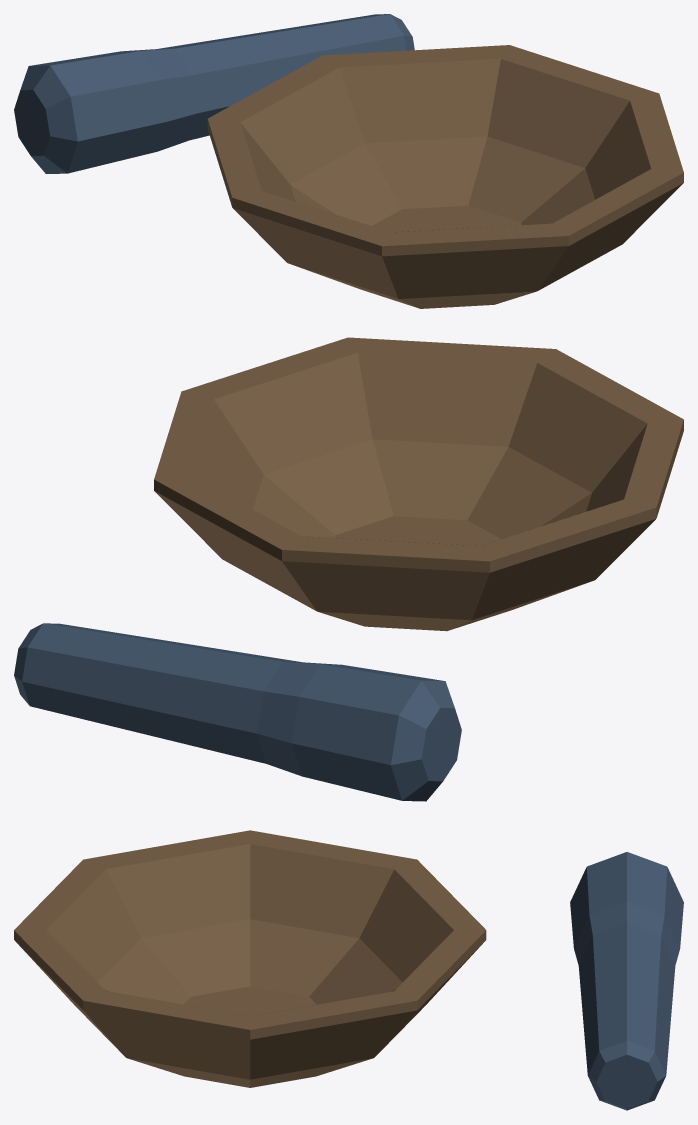
The model's file is mortar pestle.fbx.
3 renders of one model, top to bottom at view 1: azimuth 30°, elevation 25°; view 2: azimuth 150°, elevation 25°; view 3: azimuth 270°, elevation 25°, orthographic. The views are drawn at different scales.
Parts seen in each view (by area): view 1: pestle.001; view 2: pestle.001; view 3: pestle.001.
Boxes of the visible parts, x1,y1,x2,y2 form: pestle.001: [14, 14, 683, 308]; pestle.001: [14, 337, 683, 801]; pestle.001: [14, 830, 683, 1110].
Size of the model in its own units: 58.64 by 16.05 by 82.22.
1 material, 1 textured.
